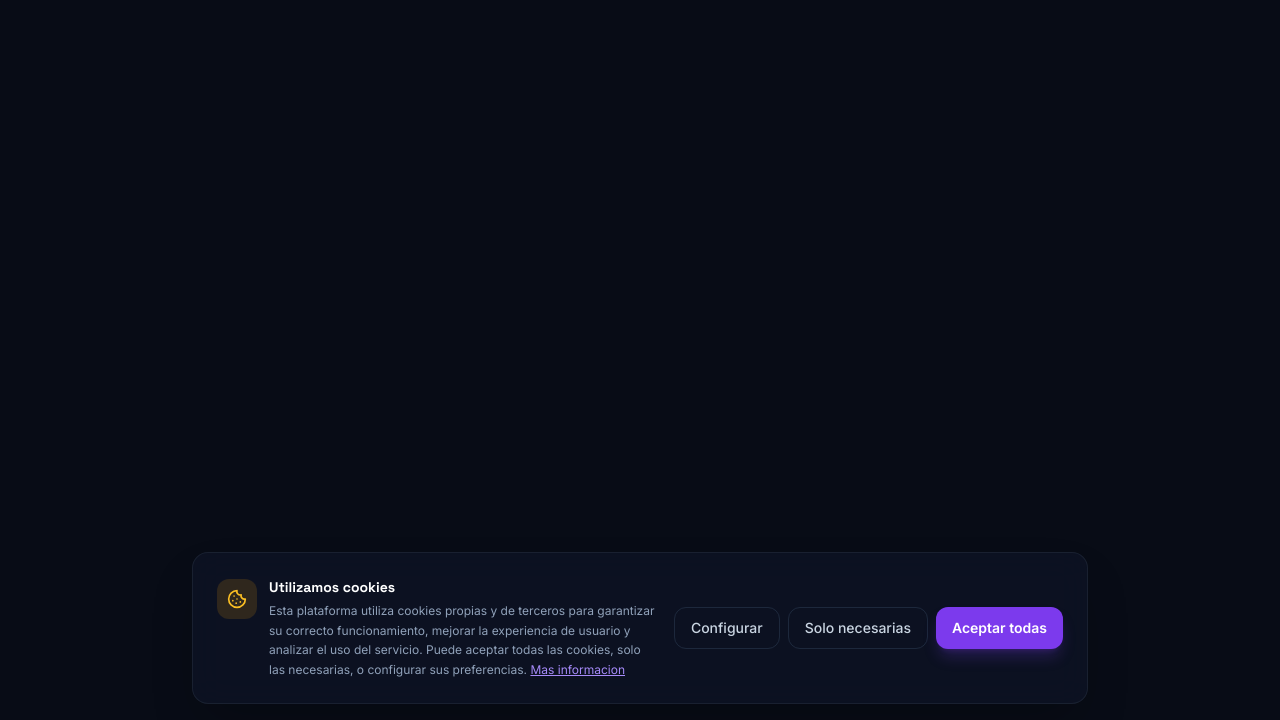
CookieConsent › "Configurar" opens settings modal
Click the button "Configurar" at x=727, y=628, box [674,607,780,649]
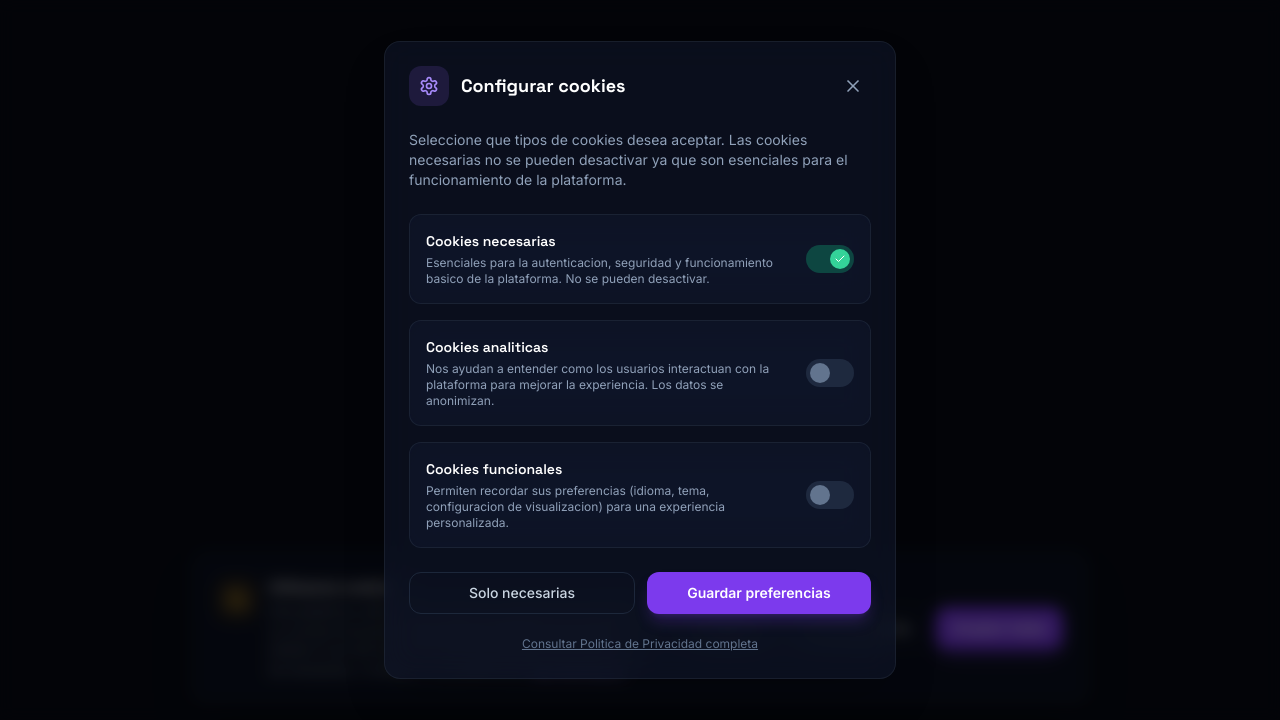
Result: the heading "Configurar cookies" is shown at [461,72,626,100]
Result: the heading "Cookies necesarias" is shown at [426,232,556,250]
Result: the heading "Cookies analiticas" is shown at [426,338,548,356]
